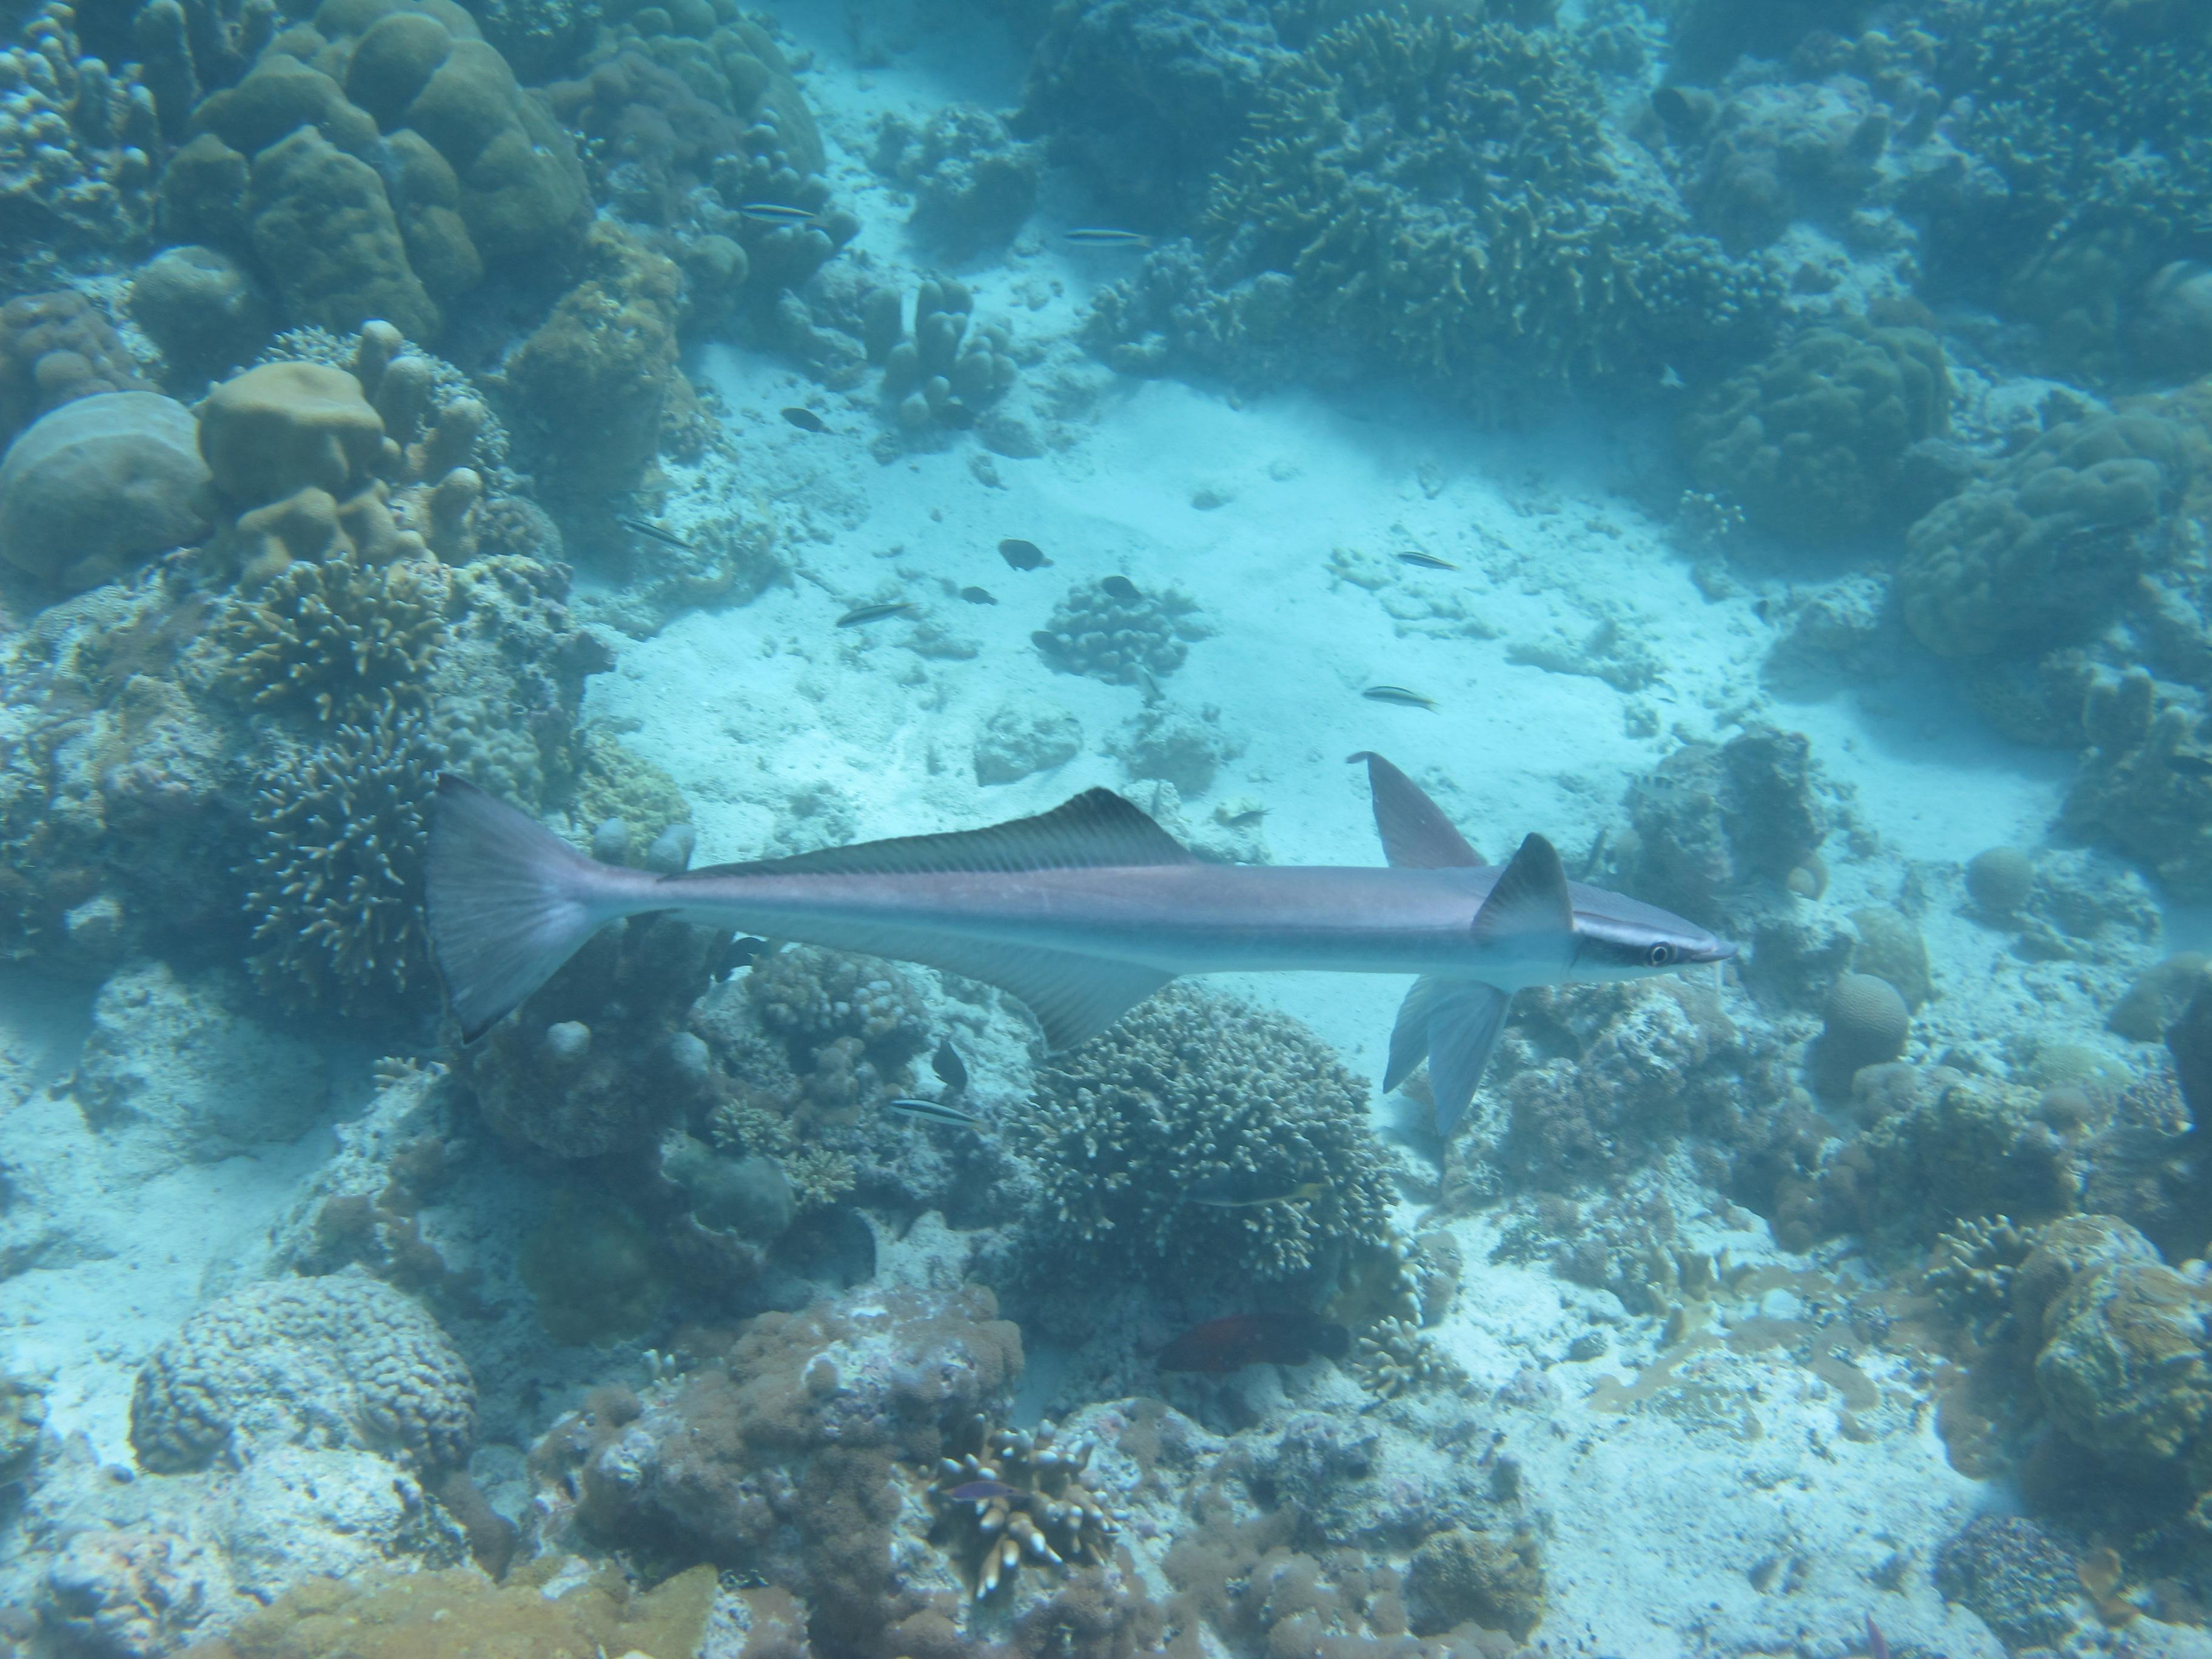Fish: (411, 740, 1728, 1156)
